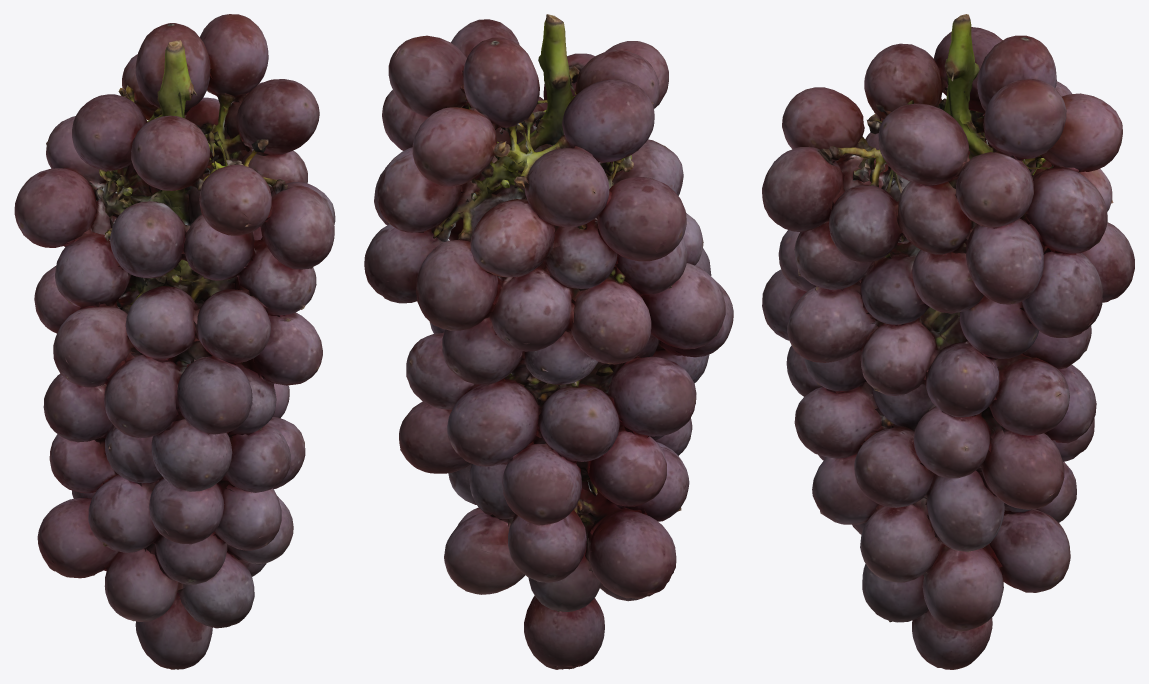
The model's file is grapes.glb.
3 renders of one model, left to right at view 1: azimuth 30°, elevation 25°; view 2: azimuth 150°, elevation 25°; view 3: azimuth 270°, elevation 25°, orthographic. The views are drawn at different scales.
Visible parts, largest first — view 1: Object_2; view 2: Object_2; view 3: Object_2.
Part boxes in pixels (x1,y1,x2,y2): Object_2: (14,14,335,669); Object_2: (364,14,733,669); Object_2: (762,14,1134,669).
Bounding box in the file's own units: 12.13 × 25.51 × 13.17.
Materials: 1 (1 with a texture image).
